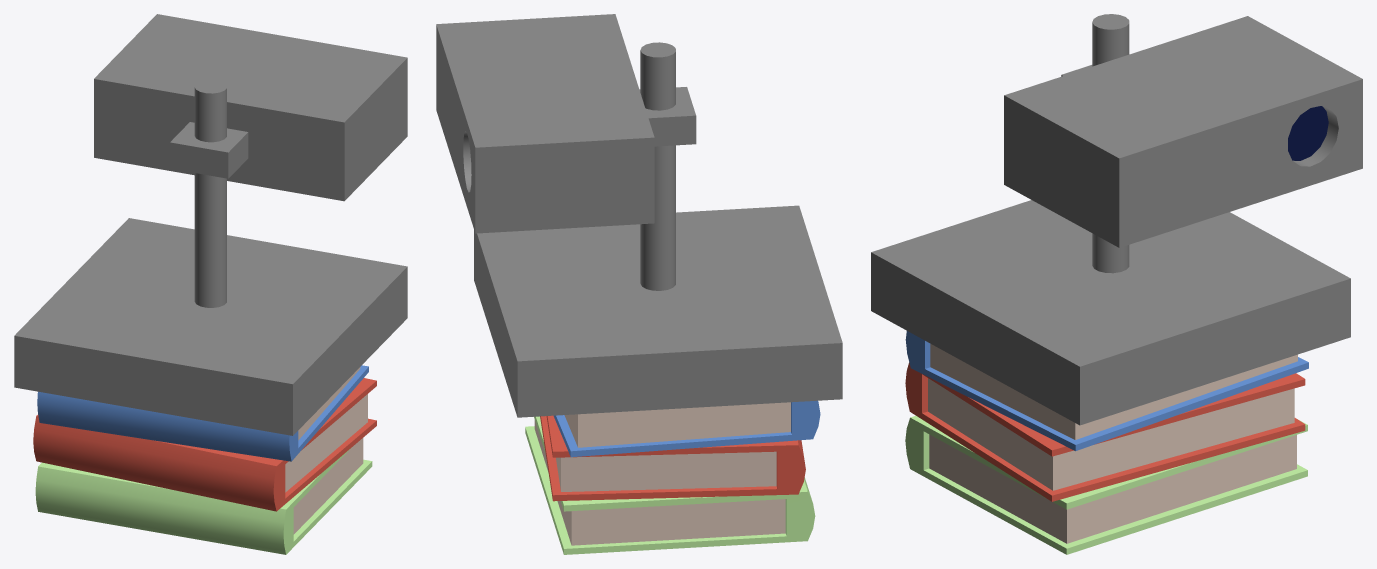
The model's file is ProjectorOnBooks.fbx.
3 views of the same model, side by side, from view 1: azimuth 30°, elevation 25°; view 2: azimuth 150°, elevation 25°; view 3: azimuth 270°, elevation 25° (orthographic). The views are drawn at different scales.
Visible parts, largest first — view 1: Cube.359; view 2: Cube.359; view 3: Cube.359.
Boxes of the visible parts, box(x1,y1,x2,y2) form: Cube.359: box(14, 14, 407, 554); Cube.359: box(436, 14, 842, 554); Cube.359: box(871, 14, 1362, 554).
Size of the model in its own units: 53.8 by 53.68 by 52.65.
